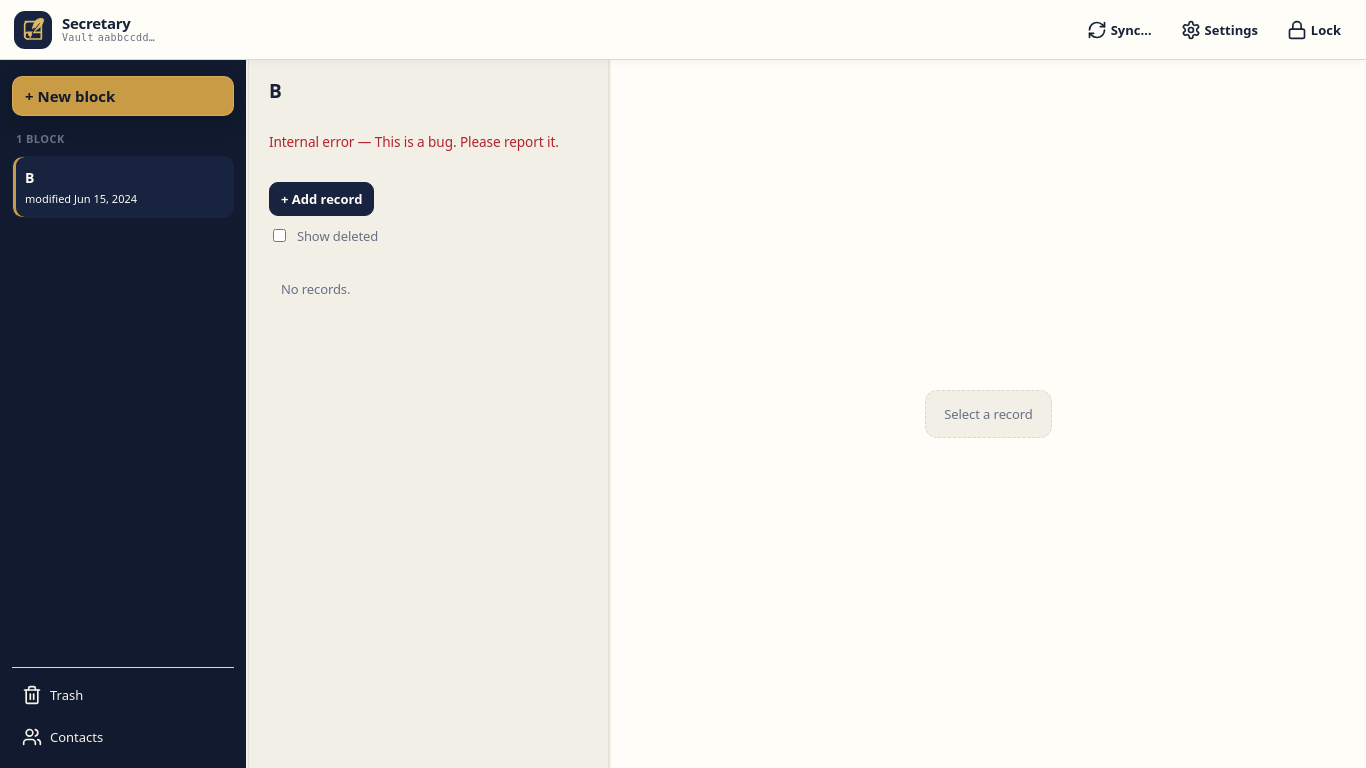
Test case: Vault.svelte — #164 Esc pops a browse level › Escape with the settings dialog open closes only the dialog (no pop)
Expected: the element with class "record-list" is shown, x1=269 y1=78 x2=559 y2=298
Click the button "Settings" at (1219, 30), box x1=1170 y1=12 x2=1269 y2=48
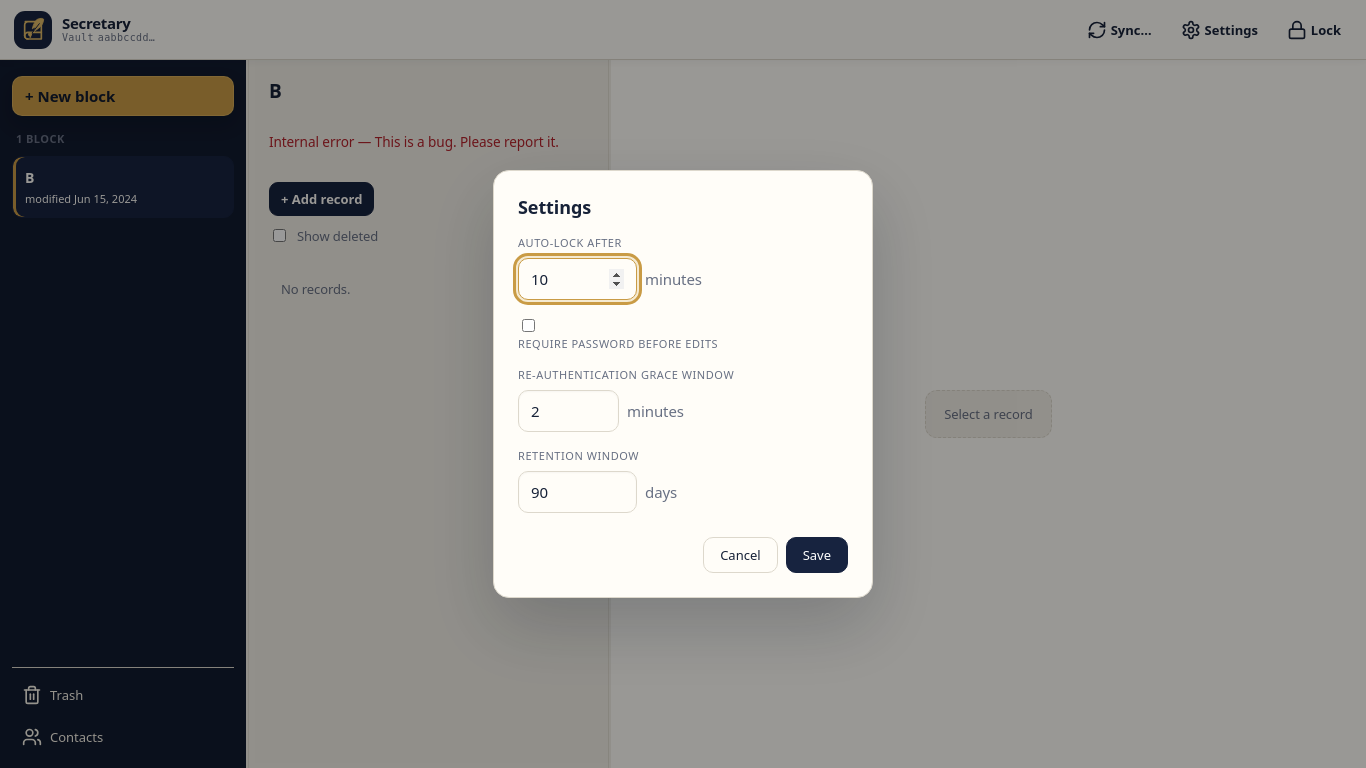
Result: the dialog is shown at x1=493 y1=170 x2=873 y2=598
